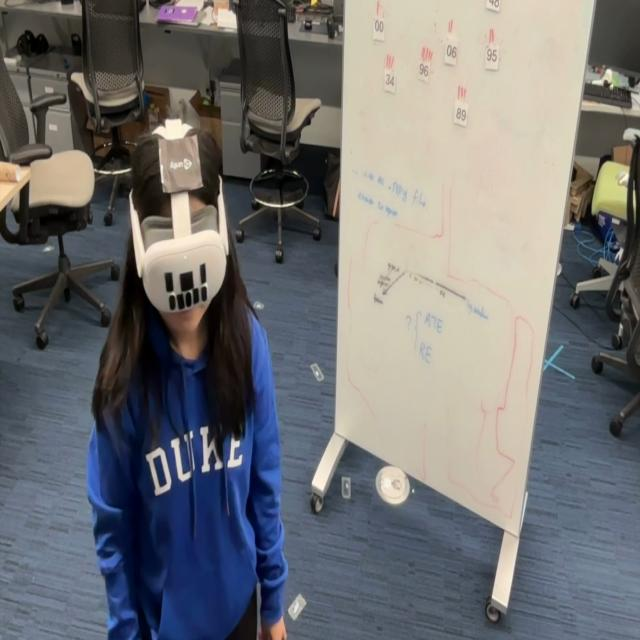Headset: (128, 170, 230, 315)
UnityLogo: (156, 141, 206, 188)
